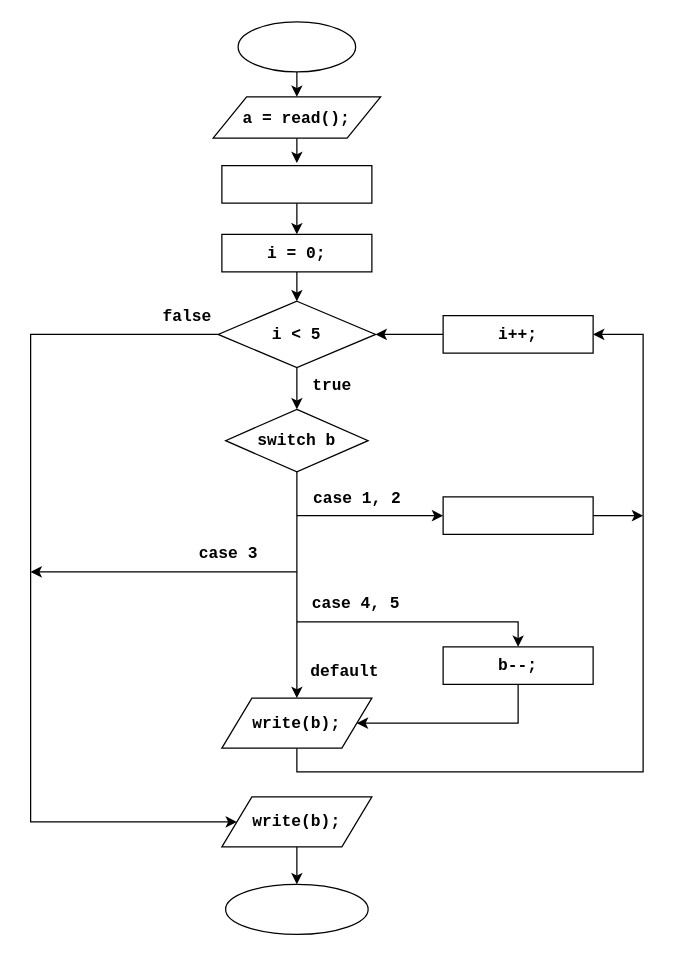
Some shapes in this 675 by 956 pixel diagram are drawn without their labels. Each missing label, with the centre of its shape:
b = a;: the point at 296,183
b++;: the point at 517,515
Start: the point at 296,46
Stop: the point at 296,908
